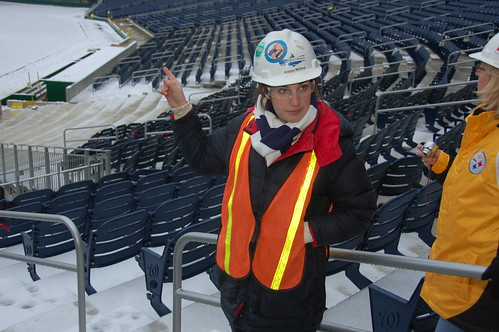person hardhat: (161, 33, 370, 332), (427, 34, 499, 332)
